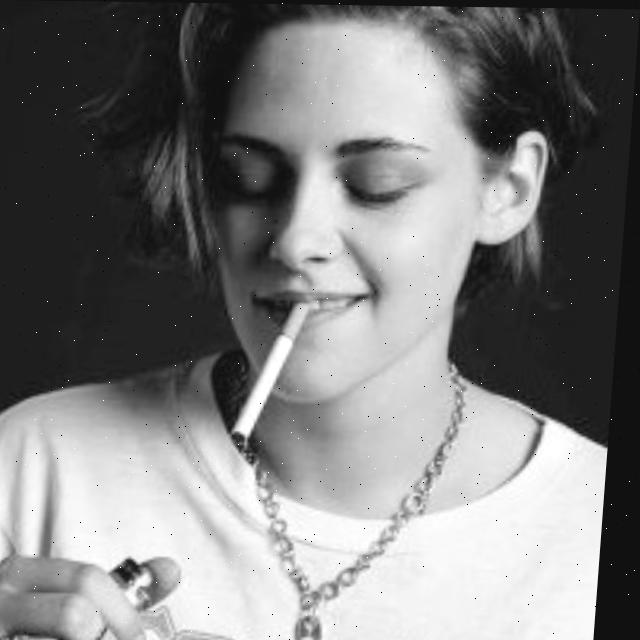cigarette: (235, 301, 314, 444)
